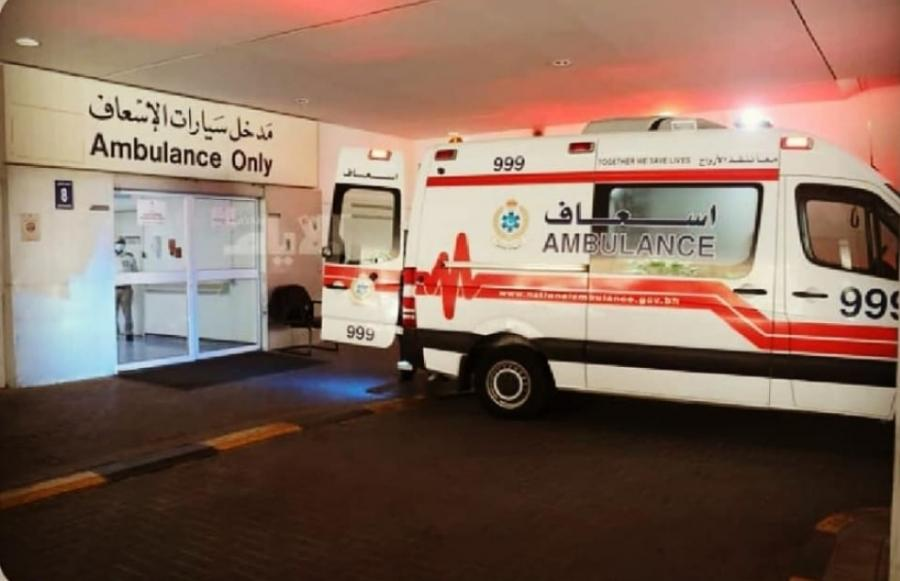ambulance_on: (321, 103, 900, 440)
